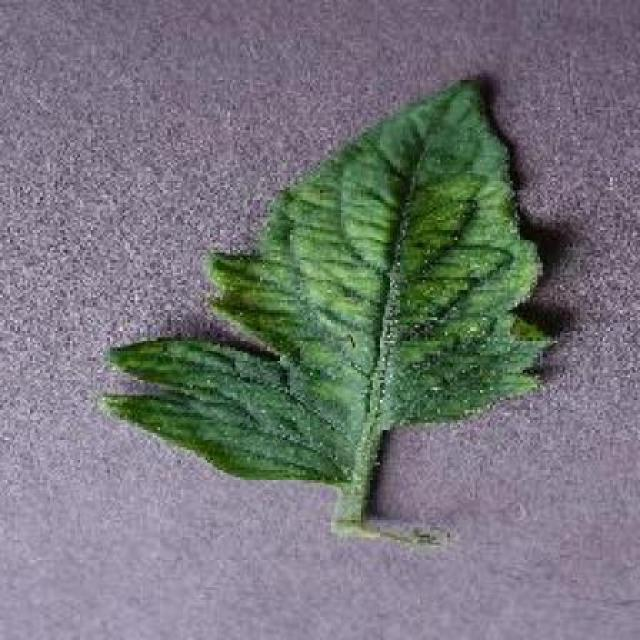Mosaic Virus: (98, 71, 556, 488)
